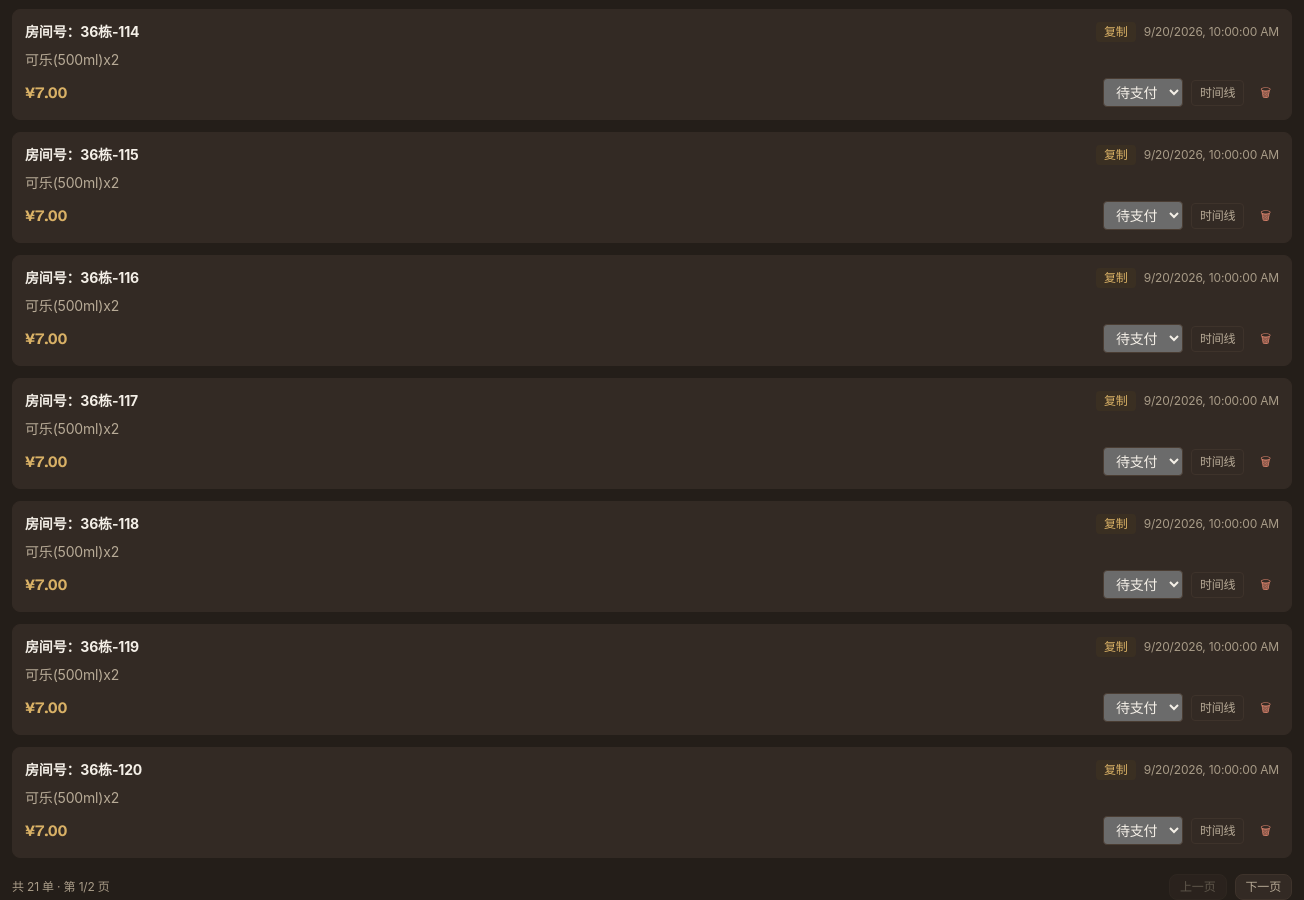
筛选与分页 › 翻页：下一页/上一页可点，边界处禁用
The width and height of the screenshot is (1304, 900).
(page scrolled)
Expected: the text "共 21 单 · 第 1/2 页" is shown, [12,879,110,895]
Expected: the button "上一页" is disabled, [1169,874,1226,899]
Click the button "下一页".
click(1263, 887)  # box [1234,874,1292,899]
(page scrolled)
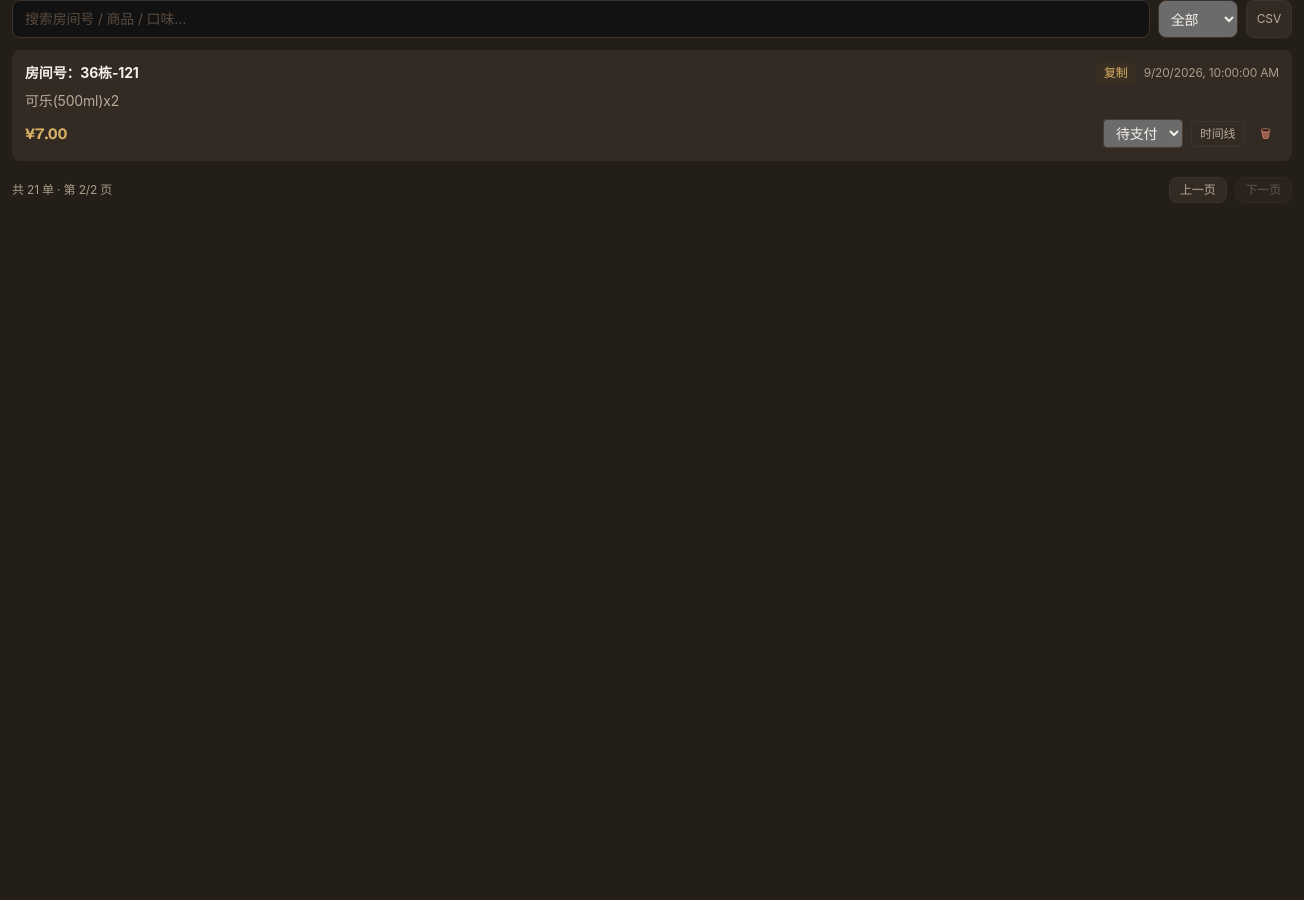
Expected: the text "共 21 单 · 第 2/2 页" is shown, [12,182,112,198]
Expected: the button "下一页" is disabled, [1234,177,1292,203]
Click the button "上一页".
click(1198, 190)  # box [1169,177,1226,203]
(page scrolled)
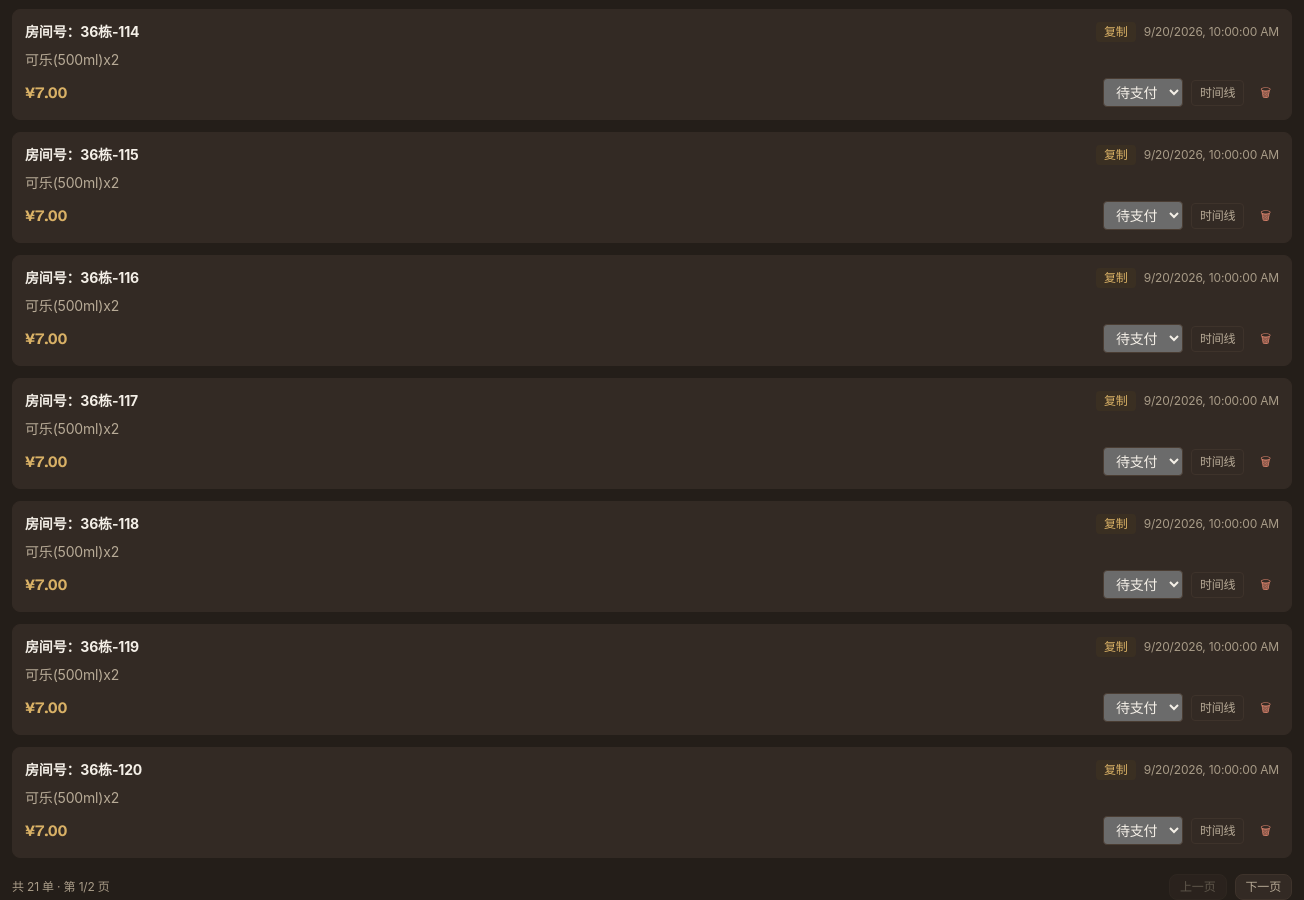
Expected: the text "共 21 单 · 第 1/2 页" is shown, [12,879,110,895]
